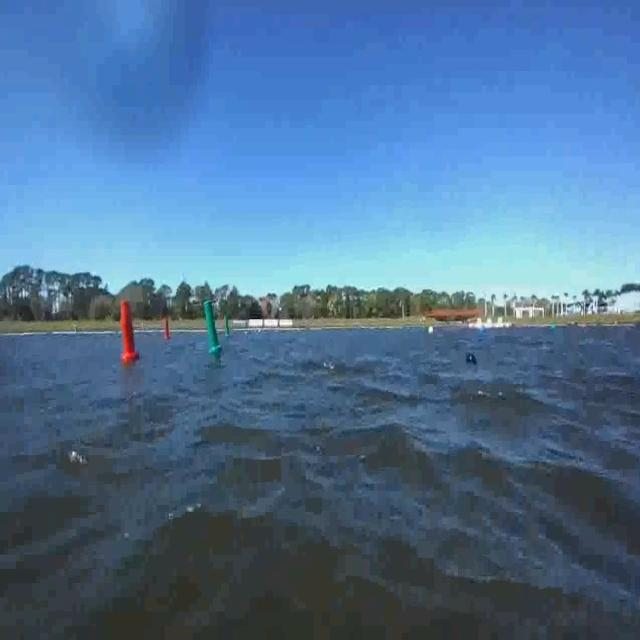blue-buoy: (463, 343, 481, 372)
green-column-buoy: (203, 301, 224, 355), (224, 311, 230, 337)
red-column-buoy: (121, 299, 140, 362), (163, 319, 170, 343)
